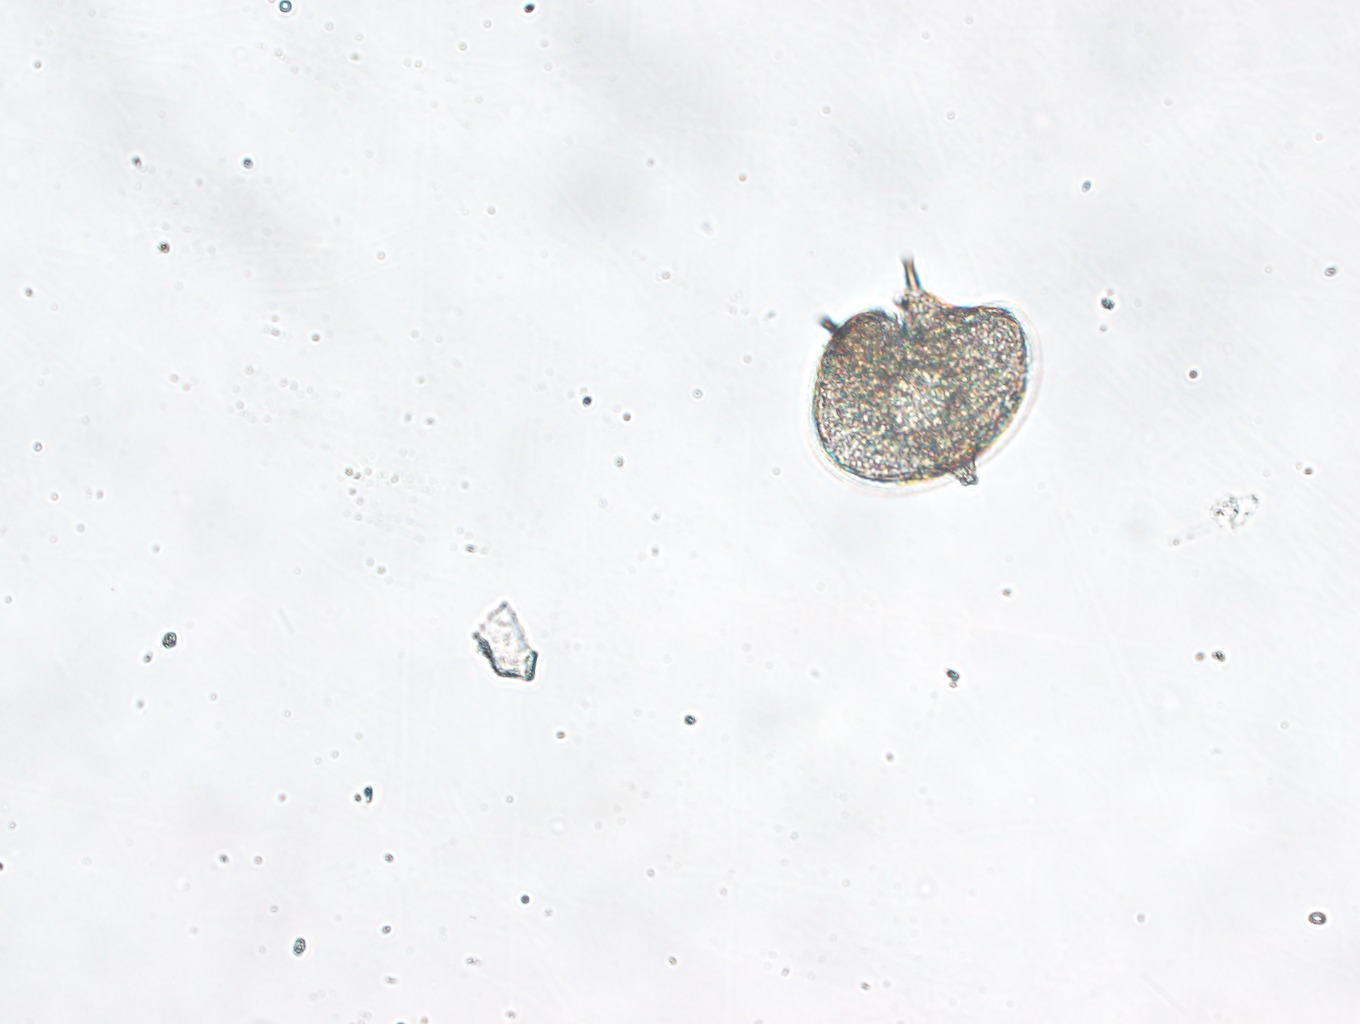protoperidinium: (808, 253, 1037, 495)
